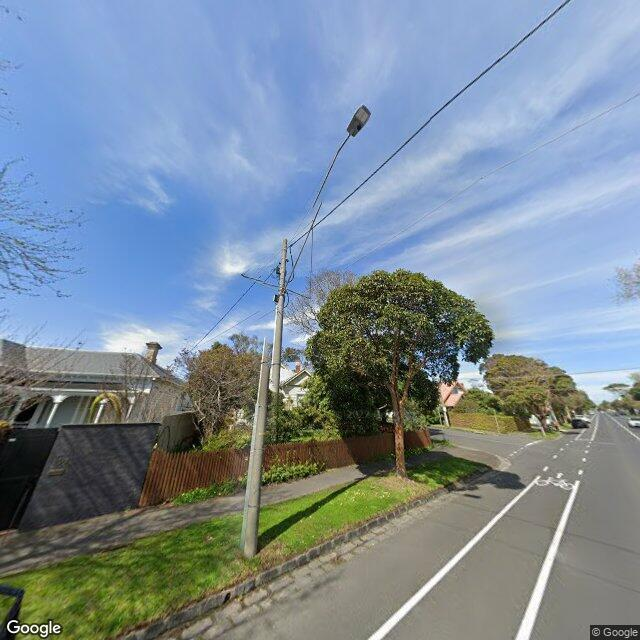streetlight: (282, 104, 372, 294)
timber-pole: (240, 240, 288, 560)
